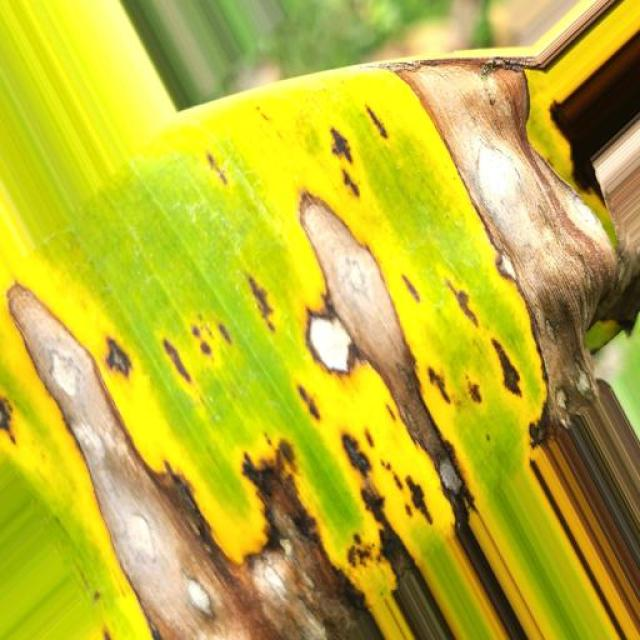Early_rust: (0, 34, 640, 622)
